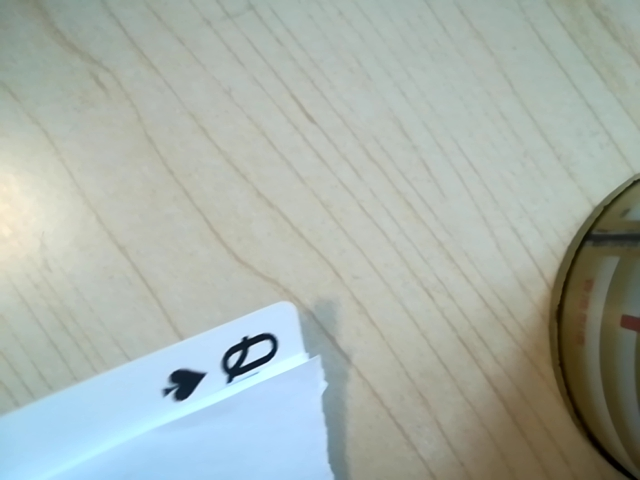ht q: (151, 322, 300, 407)
